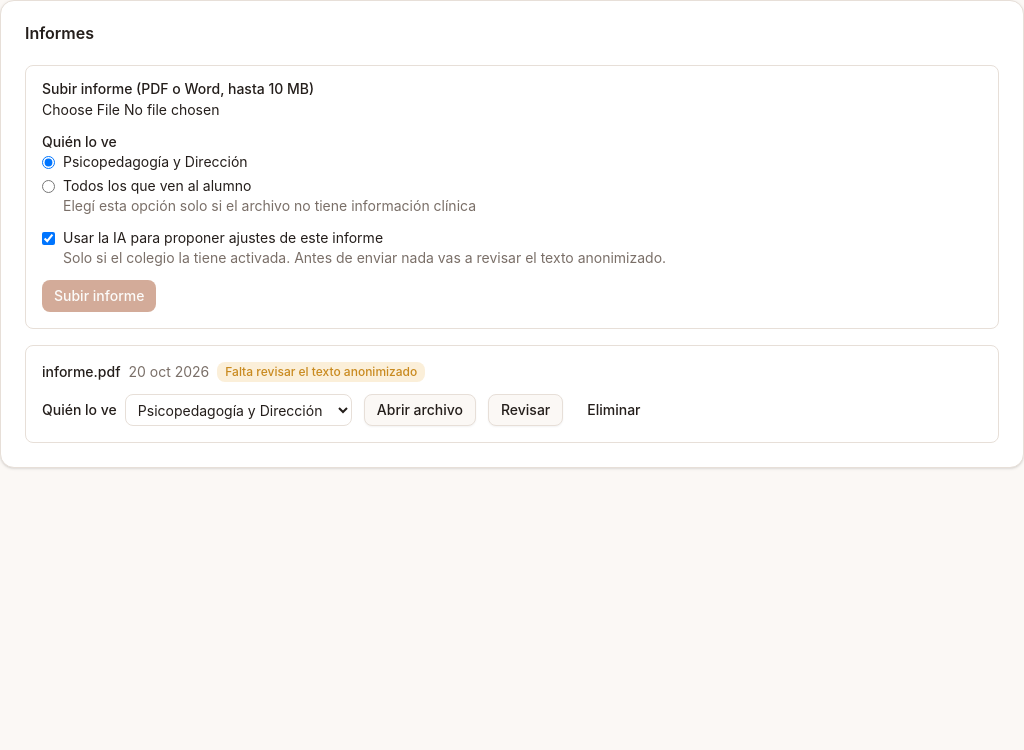
Test: StudentReportsSection › saves corrections before sending and shows the server's refusal
Click the button "Revisar" at (526, 410), box [488,394,563,426]
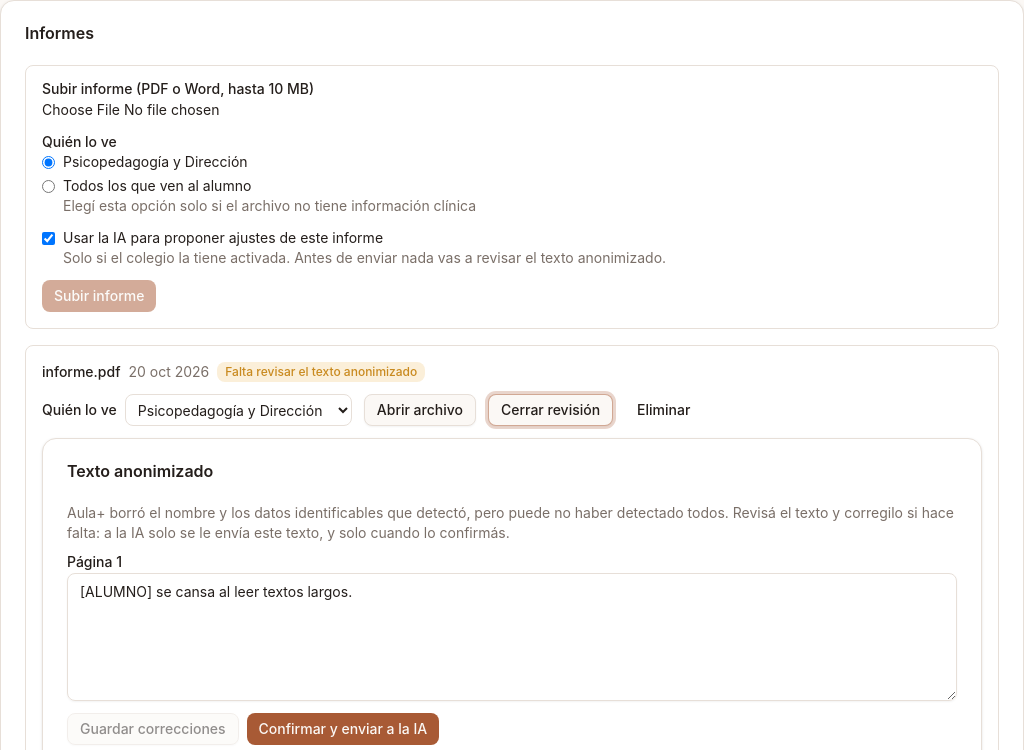
Type " Extra" into the text box labelled "Página 1" at (512, 637), box [67,573,957,701]
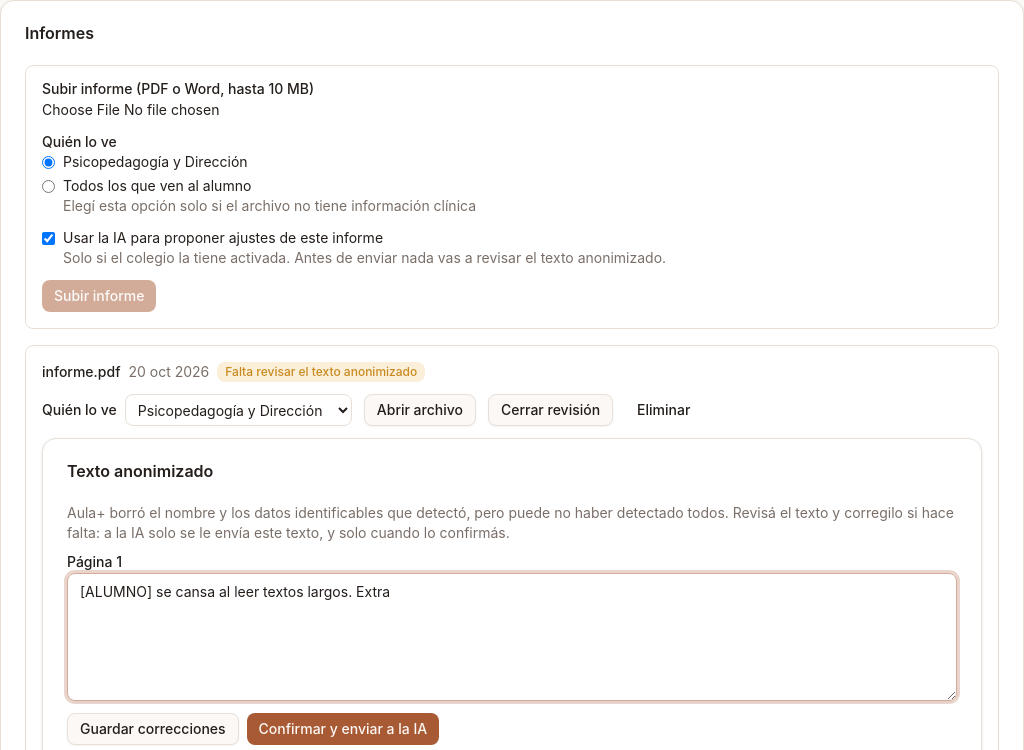
Click the button "Confirmar y enviar a la IA" at (343, 729), box [247,713,439,745]
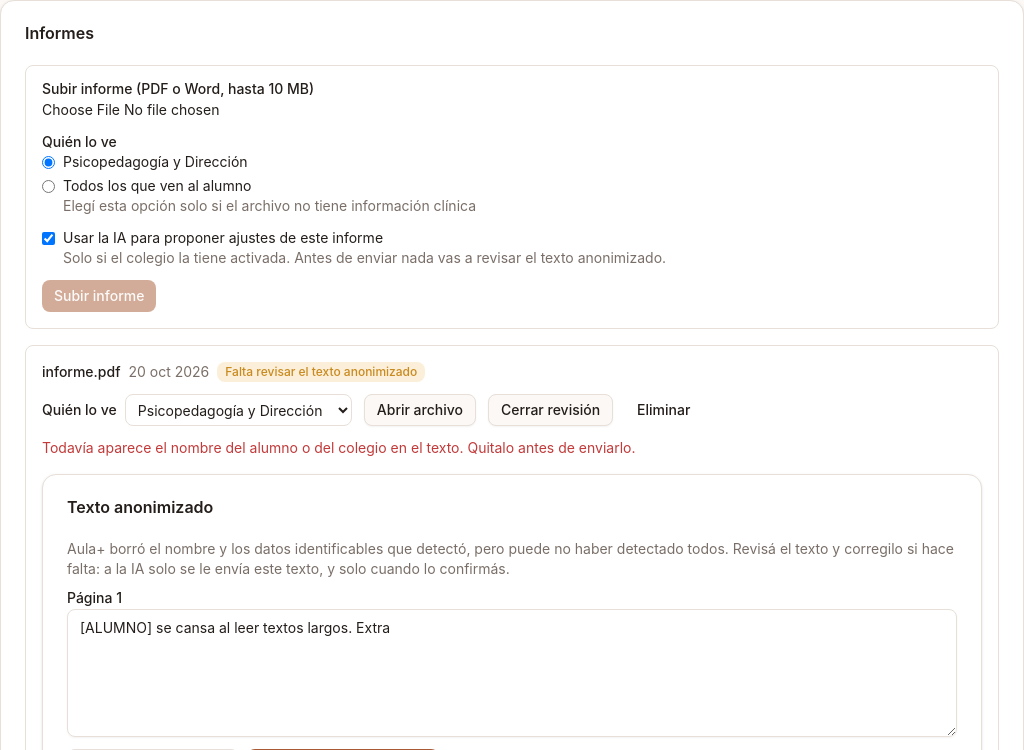
Check: the message shows "Todavía aparece el nombre del alumno", box [42,439,636,456]
